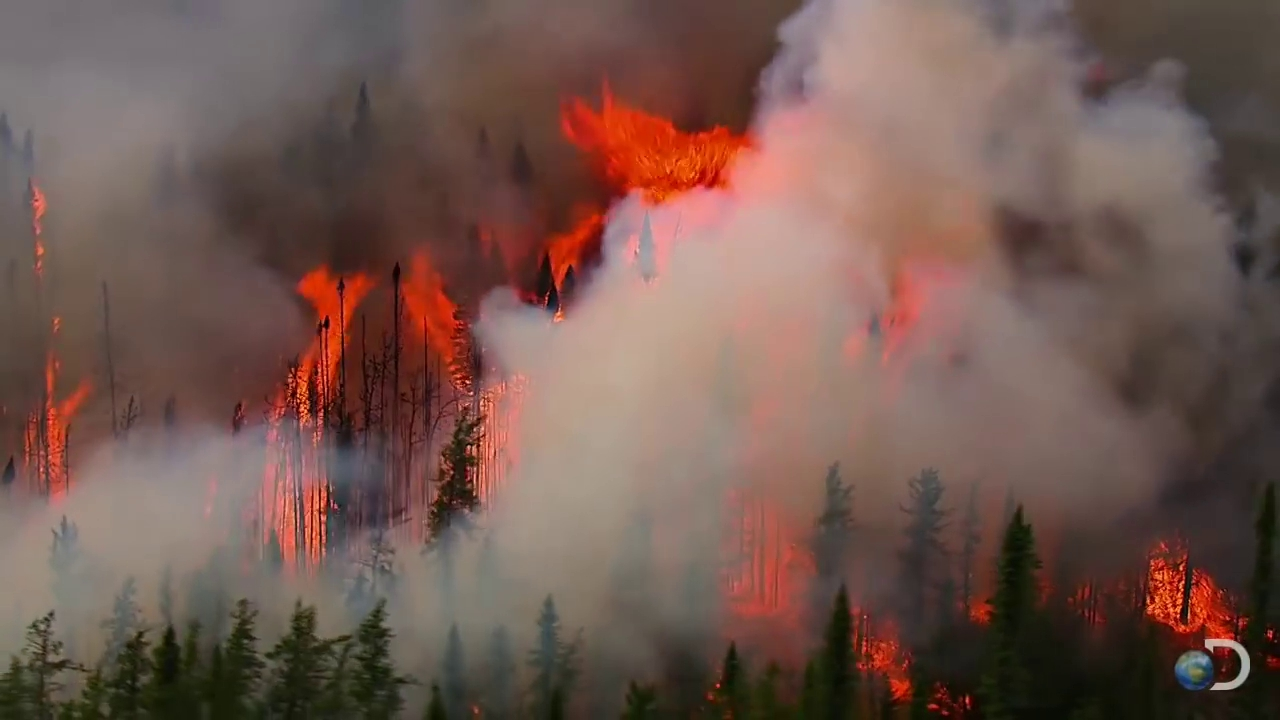forest_fire: (561, 88, 747, 204), (274, 266, 376, 419), (1145, 542, 1244, 636), (24, 382, 89, 498), (263, 472, 335, 559), (401, 253, 460, 359), (550, 211, 602, 286), (868, 639, 912, 701), (29, 181, 46, 276), (928, 689, 971, 716)
